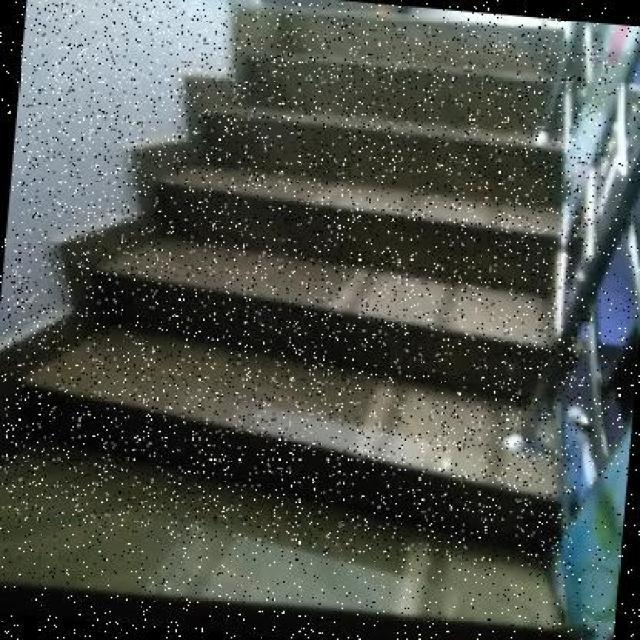Stairs: (51, 39, 558, 594)
